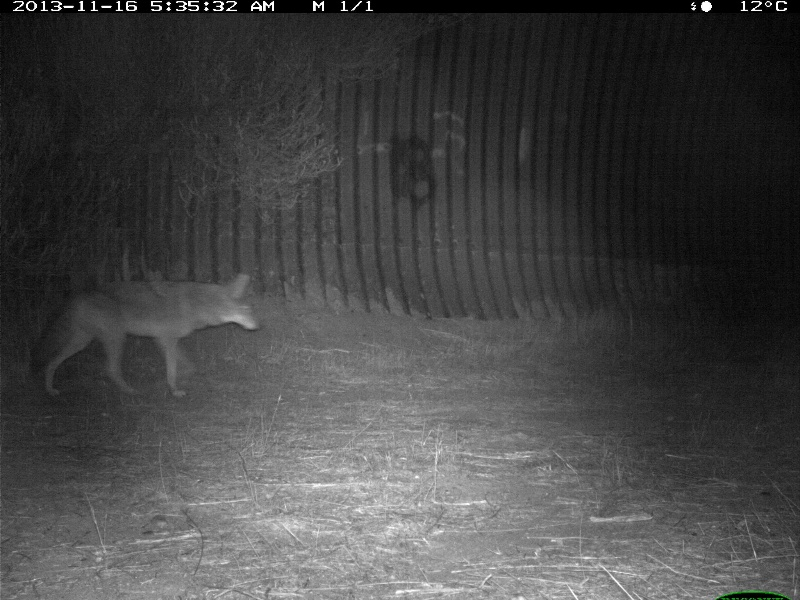coyote: (26, 268, 262, 401)
